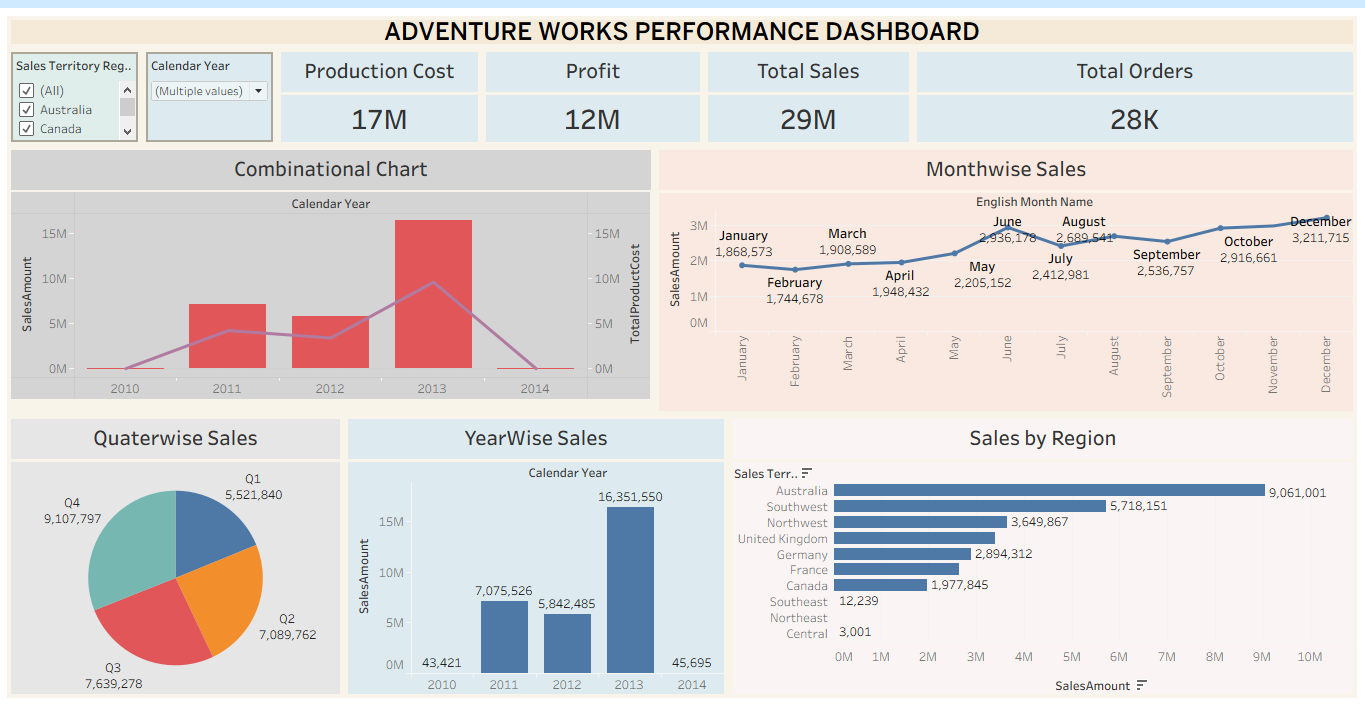

The dashboard page shown, as its layout file describes it:
{"tool":"tableau","page":{"name":"Dashboard 1","canvas":[1000,1000],"units":"permille","ordinal":0},"visuals":[{"type":"text","box":[7.2,14.5,985.6,58]},{"type":"filter","title":"Sales by Region","param":"[federated.0itgxha0gsd9j91bvf97k0wto3fl].[none:SalesTerritoryRegion:nk]","box":[7.2,72.5,121.4,177.5]},{"type":"filter","title":"Combinational Chart","param":"[federated.0itgxha0gsd9j91bvf97k0wto3fl].[none:CalendarYear:ok]","box":[128.6,72.5,121.4,177.5]},{"type":"worksheet","title":"Production Cost","mark":"Automatic","box":[250,72.5,184.3,177.5]},{"type":"worksheet","title":"Profit","mark":"Automatic","box":[434.4,72.5,199.6,177.5]},{"type":"worksheet","title":"Total Sales","mark":"Automatic","box":[634,72.5,188,177.5]},{"type":"worksheet","title":"Total Orders","mark":"Automatic","box":[821.9,72.5,170.9,177.5]},{"type":"worksheet","title":"Combinational Chart","mark":"Automatic","rows":["SalesAmount","TotalProductCost"],"cols":["CalendarYear"],"box":[7.2,250,582.7,333.3]},{"type":"worksheet","title":"Monthwise Sales","mark":"Line","rows":["SalesAmount"],"cols":["EnglishMonthName"],"box":[589.9,250,402.8,333.3]},{"type":"worksheet","title":"Quaterwise Sales","mark":"Pie","box":[7.2,583.3,246.3,402.2]},{"type":"worksheet","title":"YearWise Sales","mark":"Bar","rows":["SalesAmount"],"cols":["CalendarYear"],"box":[253.5,583.3,280.6,402.2]},{"type":"worksheet","title":"Sales by Region","mark":"Automatic","rows":["SalesTerritoryRegion"],"cols":["SalesAmount"],"box":[534.1,583.3,458.7,402.2]}]}

Visuals, with their boxes on the dashboard's canvas, which has no fixed pixel size, in thousandths of its width and height (x1, y1, x2, y2). These are canvas units, not pixel positions in the 1365x706 screenshot, which may show the page scaled, cropped or inside an application window:
text: <box>7,14,993,72</box>
"Sales by Region" filter: <box>7,72,129,250</box>
"Combinational Chart" filter: <box>129,72,250,250</box>
"Production Cost" worksheet: <box>250,72,434,250</box>
"Profit" worksheet: <box>434,72,634,250</box>
"Total Sales" worksheet: <box>634,72,822,250</box>
"Total Orders" worksheet: <box>822,72,993,250</box>
"Combinational Chart" worksheet: <box>7,250,590,583</box>
"Monthwise Sales" worksheet (Line marks): <box>590,250,993,583</box>
"Quaterwise Sales" worksheet (Pie marks): <box>7,583,254,986</box>
"YearWise Sales" worksheet (Bar marks): <box>254,583,534,986</box>
"Sales by Region" worksheet: <box>534,583,993,986</box>
